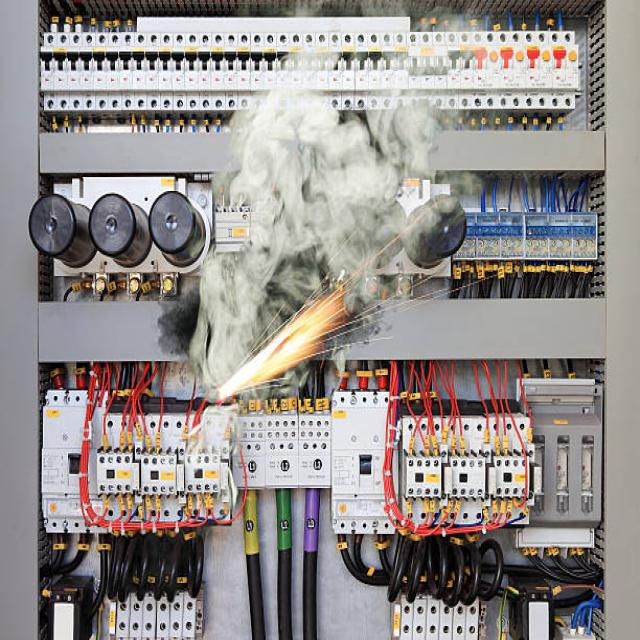fire: (215, 261, 385, 398)
